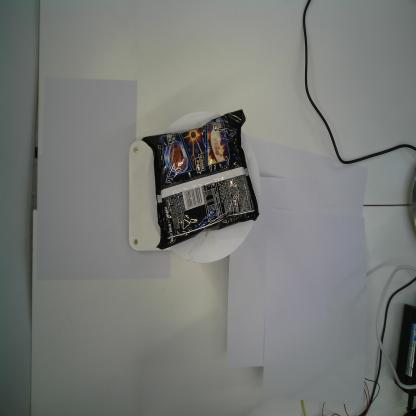Instant Noodles: (141, 107, 260, 252)
